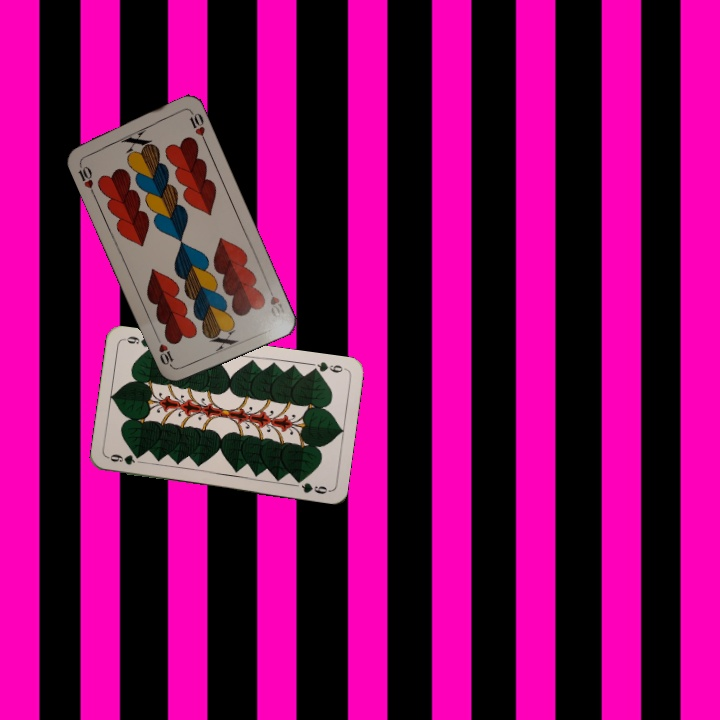G9: (307, 357, 348, 376), (104, 450, 145, 467)
H10: (264, 281, 289, 321), (74, 158, 96, 197)
